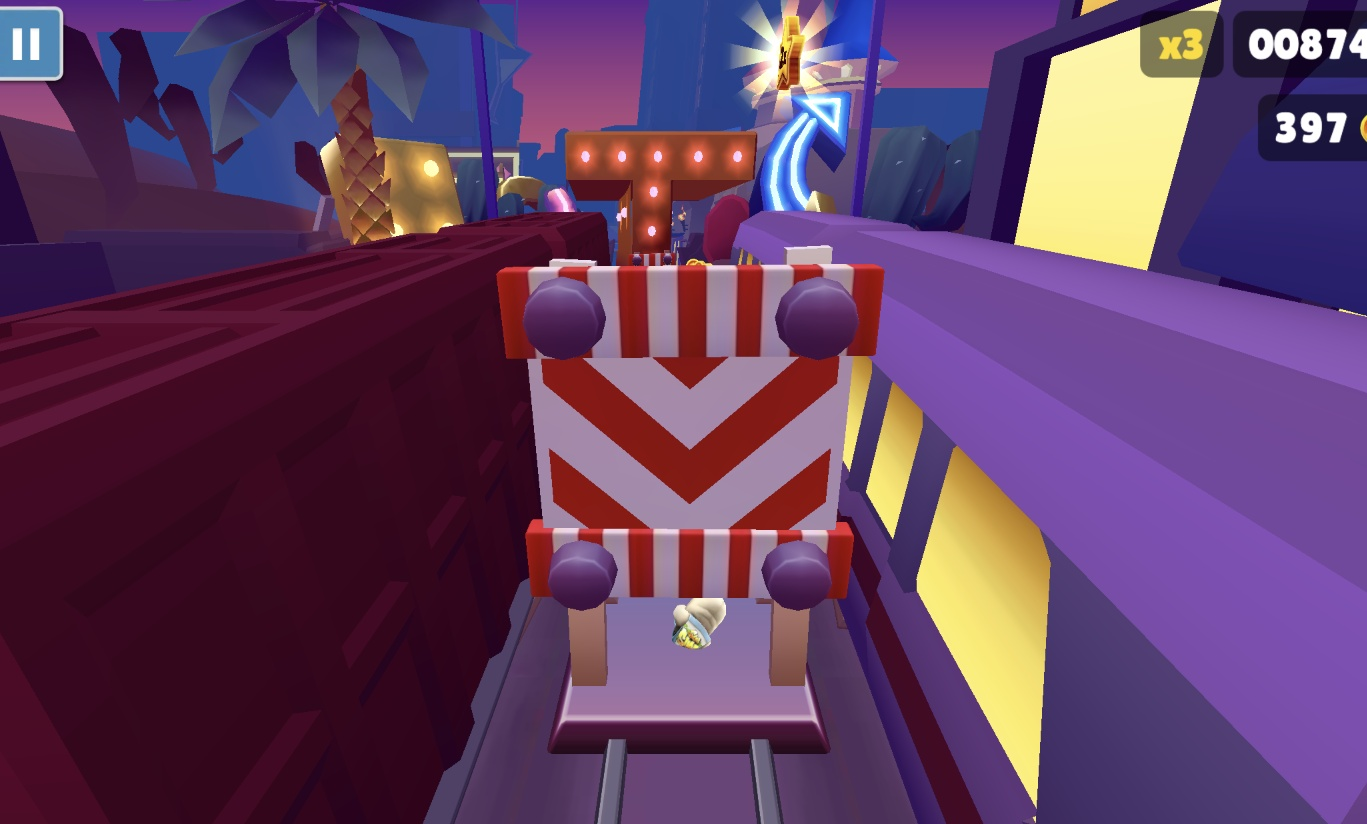ground_barrier: (630, 252, 676, 267)
overhead_barrier: (496, 247, 887, 756)
pillar: (622, 180, 675, 266)
train: (731, 209, 1367, 824), (0, 210, 614, 824)
